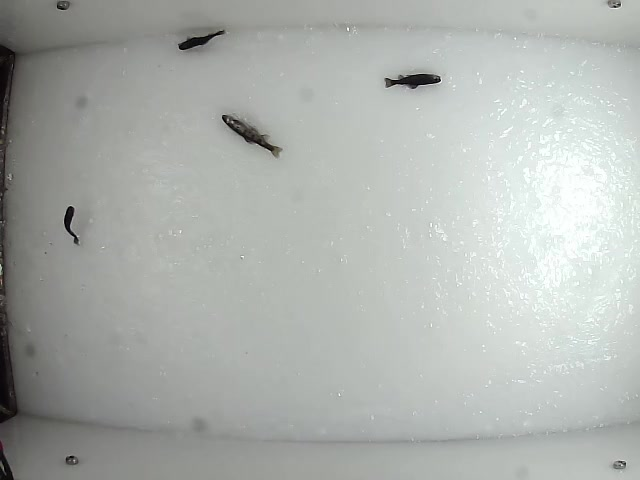fish: (219, 111, 287, 160), (174, 26, 229, 54), (383, 71, 442, 91), (59, 204, 83, 246)
